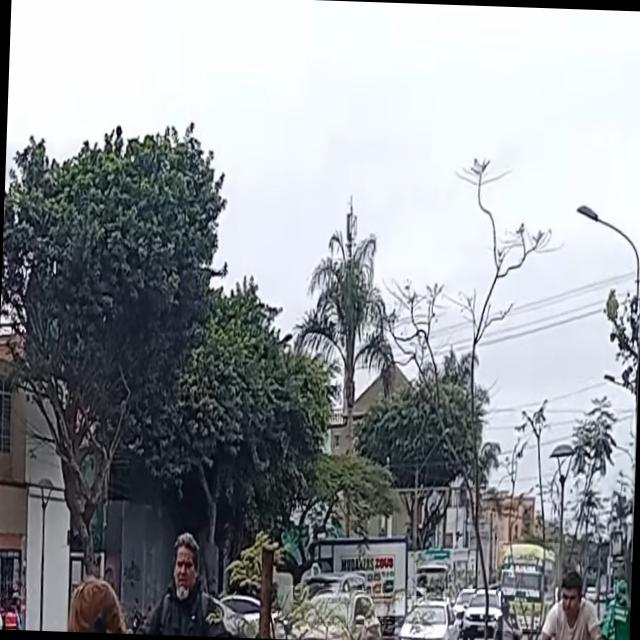bus: (496, 541, 560, 633)
car: (282, 585, 384, 640), (393, 595, 461, 640), (461, 589, 505, 640)
motorcycle: (0, 627, 15, 630)
